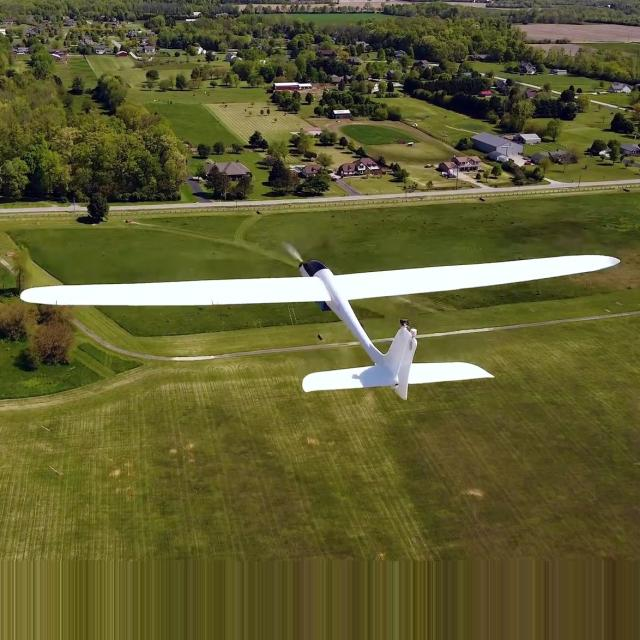iha: (17, 239, 624, 402)
